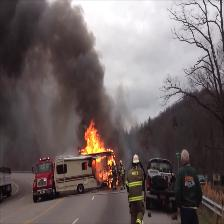fire: (83, 125, 103, 157)
smoke: (6, 9, 79, 49), (63, 56, 104, 111)
